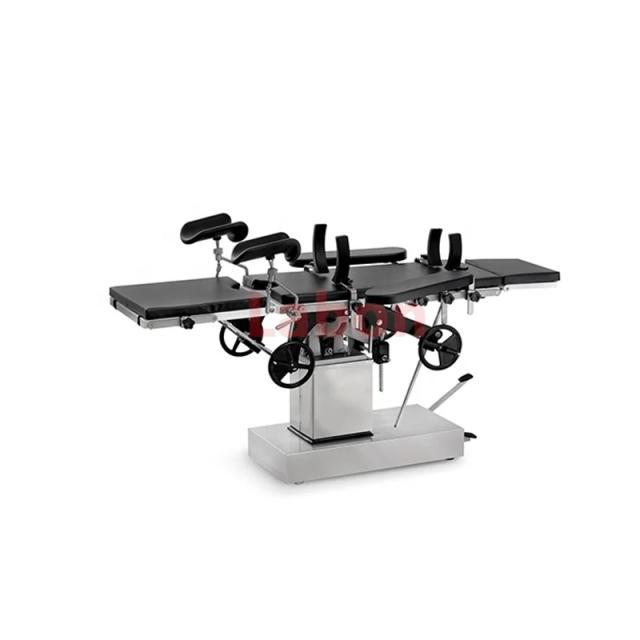bed: (108, 211, 561, 485)
